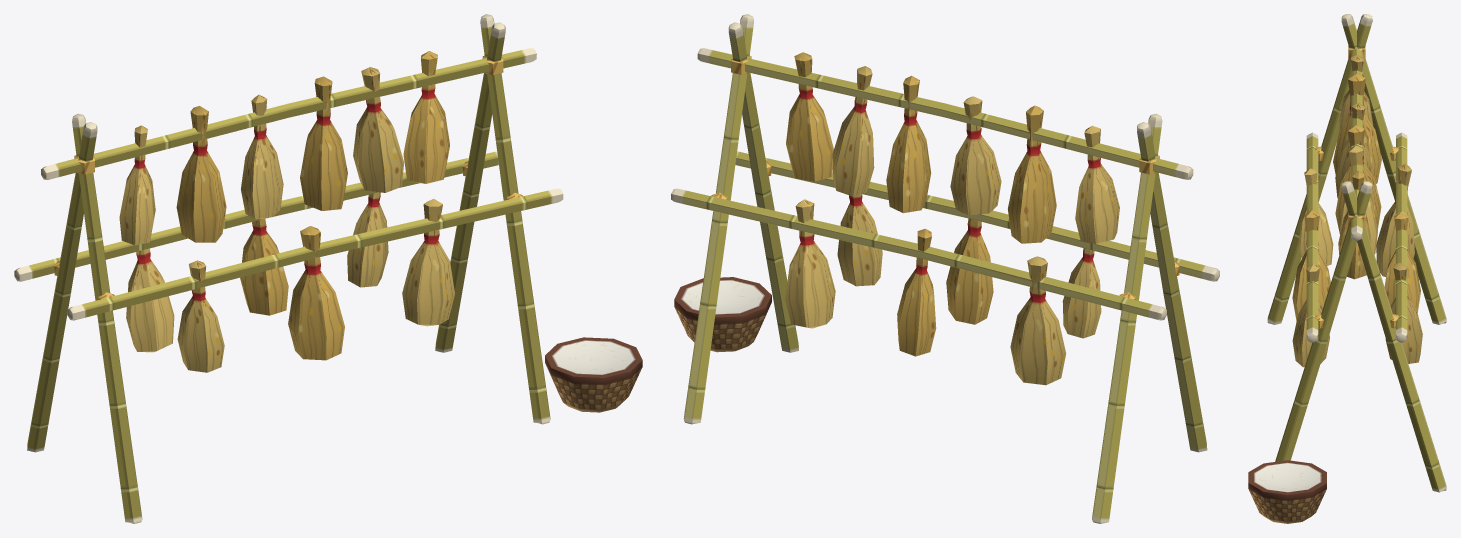
The model's file is drying_rack.glb.
3 renders of one model, left to right at view 1: azimuth 30°, elevation 25°; view 2: azimuth 150°, elevation 25°; view 3: azimuth 270°, elevation 25°, orthographic. The views are drawn at different scales.
Parts seen in each view (by area): view 1: drying_rack; view 2: drying_rack; view 3: drying_rack.
Part boxes in pixels (left/top/right/bottom): drying_rack: left=14, top=14, right=642, bottom=523; drying_rack: left=671, top=14, right=1219, bottom=523; drying_rack: left=1248, top=14, right=1446, bottom=523.
Size of the model in its own units: 3.74 by 2.36 by 1.38.
1 material, 1 textured.
